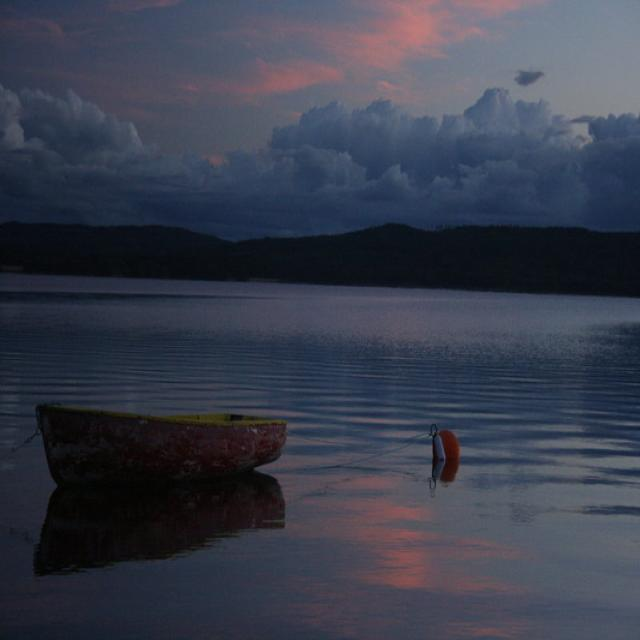Boat: (43, 387, 312, 500)
